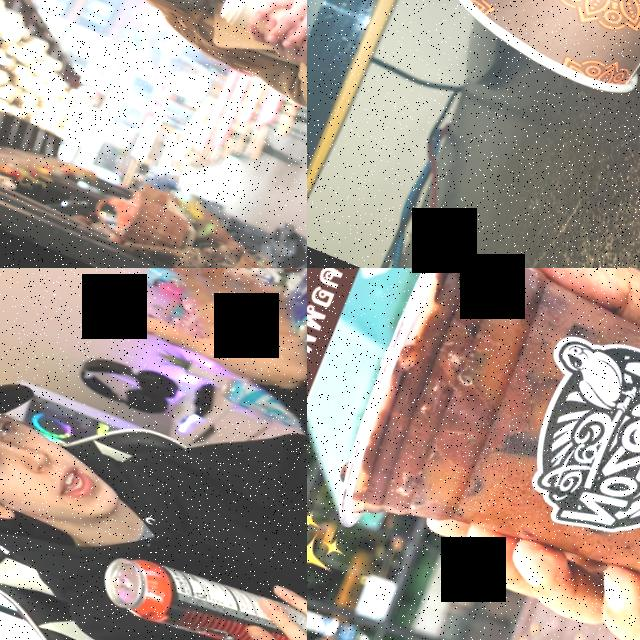can: (84, 529, 307, 640)
cup: (322, 268, 640, 640), (424, 0, 640, 117), (214, 0, 307, 56)
